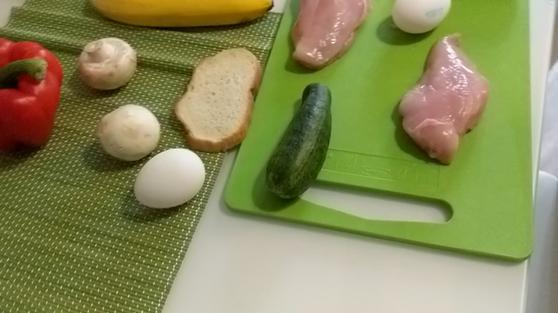banana: (86, 1, 274, 30)
champignon: (77, 35, 139, 94), (99, 102, 161, 160)
chicken_fillet: (396, 33, 495, 166), (290, 1, 368, 77)
cucumber: (263, 83, 336, 201)
egg: (136, 148, 204, 209), (388, 1, 453, 34)
pepper: (2, 37, 61, 148)
white_bread: (179, 49, 261, 149)
